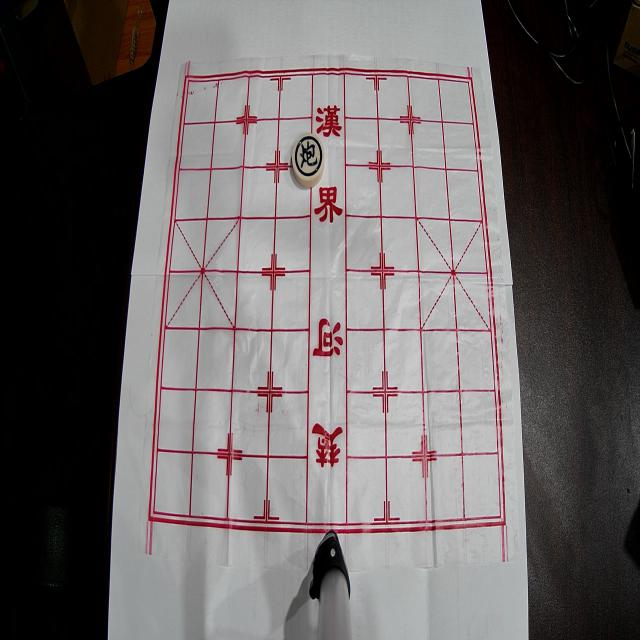black-cannon: (292, 133, 325, 187)
